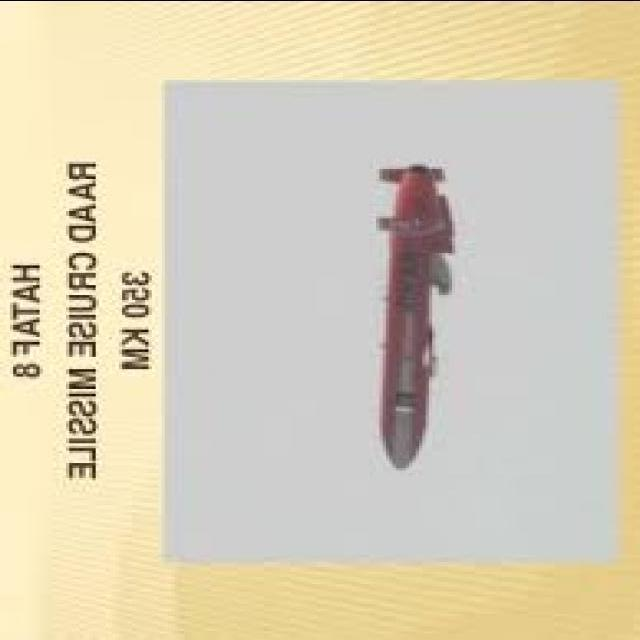missile: (368, 157, 452, 474)
